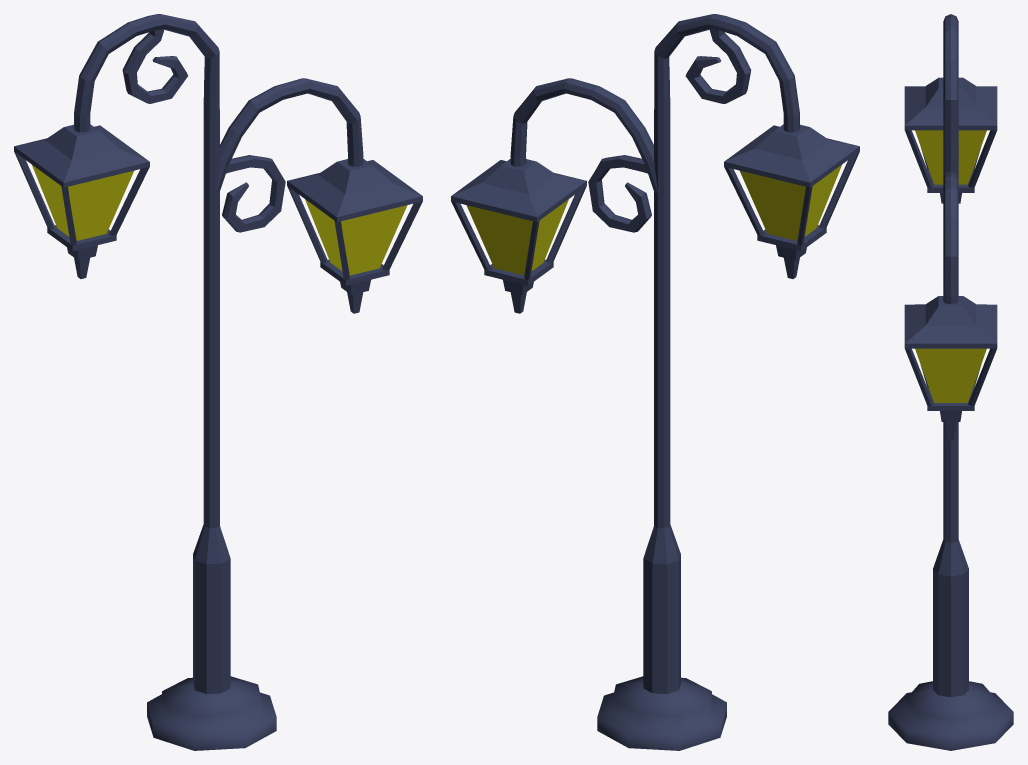
Rendered from SM_Farola.FBX.
The picture shows the model from 3 angles, left to right: view 1: azimuth 30°, elevation 25°; view 2: azimuth 150°, elevation 25°; view 3: azimuth 270°, elevation 25°; orthographic projection. The views are drawn at different scales.
Parts seen in each view (by area): view 1: SM_Farola; view 2: SM_Farola; view 3: SM_Farola.
Boxes of the visible parts, left/top/right/bottom form: SM_Farola: left=14, top=14, right=422, bottom=750; SM_Farola: left=451, top=14, right=859, bottom=750; SM_Farola: left=888, top=14, right=1013, bottom=750.
Size of the model in its own units: 134 by 258 by 43.46.
